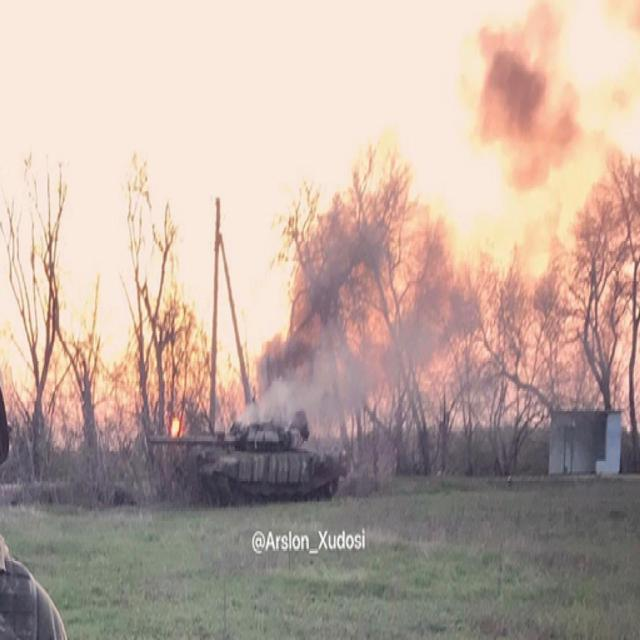TANK: (138, 402, 352, 516)
